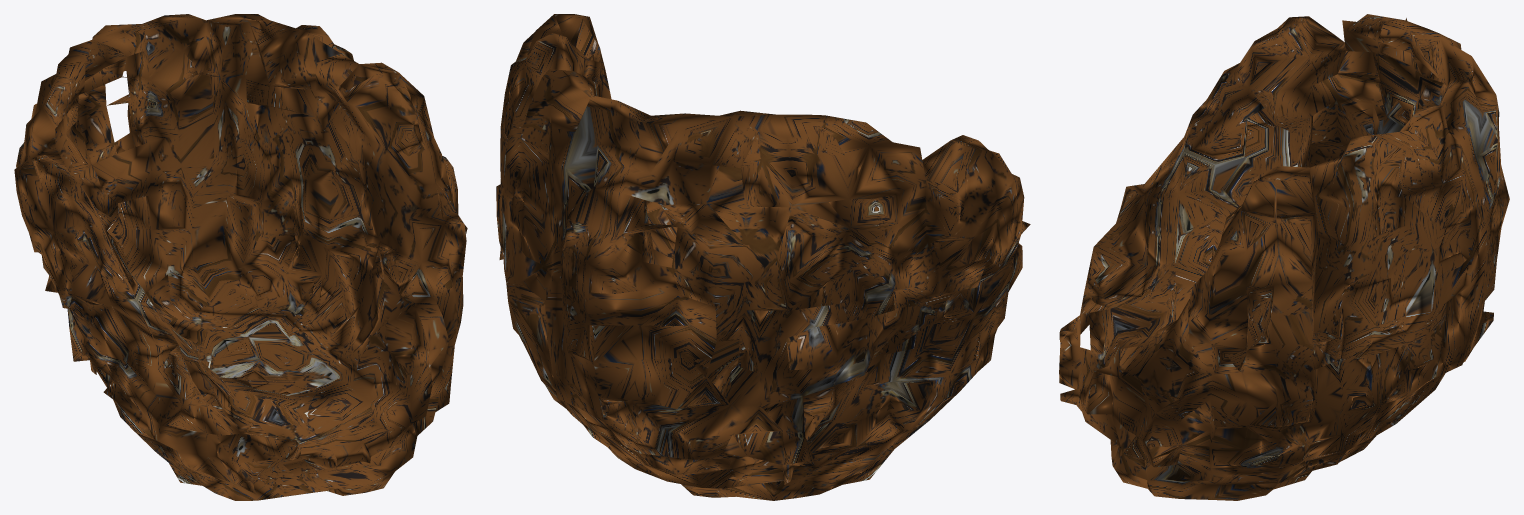
File: glove.render.glb
3 renders of one model, left to right at view 1: azimuth 30°, elevation 25°; view 2: azimuth 150°, elevation 25°; view 3: azimuth 270°, elevation 25°, orthographic. The views are drawn at different scales.
Parts seen in each view (by area): view 1: derived; view 2: derived; view 3: derived.
Part boxes in pixels (bbox=[...]): derived: bbox=[14, 14, 467, 500]; derived: bbox=[496, 14, 1030, 500]; derived: bbox=[1059, 14, 1509, 500].
Bounding box in the file's own units: 0.9599 × 0.8723 × 0.8975.
1 material, 1 textured.
